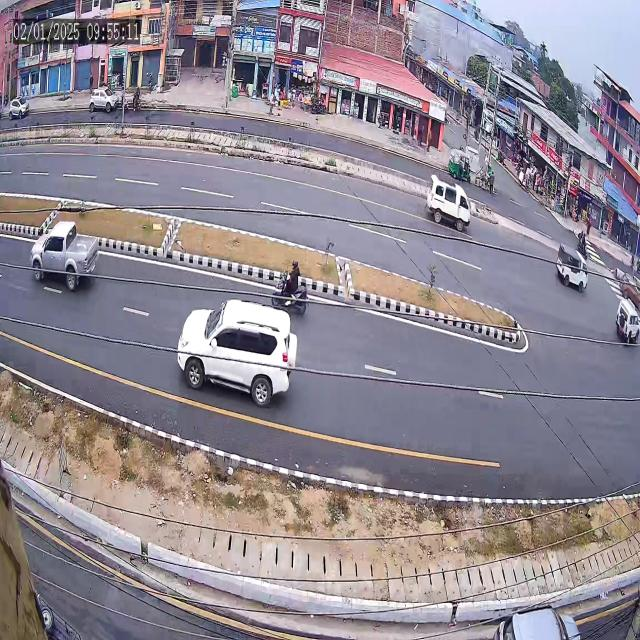car: (173, 302, 303, 415), (22, 212, 118, 312)
motorcycle: (264, 238, 320, 322)
van: (412, 170, 480, 238), (546, 236, 592, 296)
